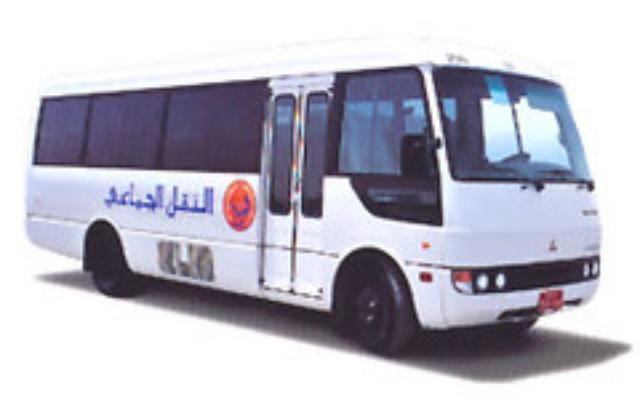bus: (27, 51, 603, 360)
